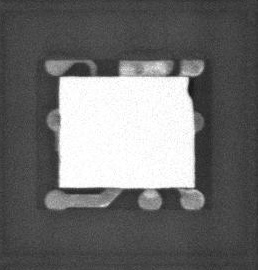DIE_BROKEN: (187, 76, 195, 99)
